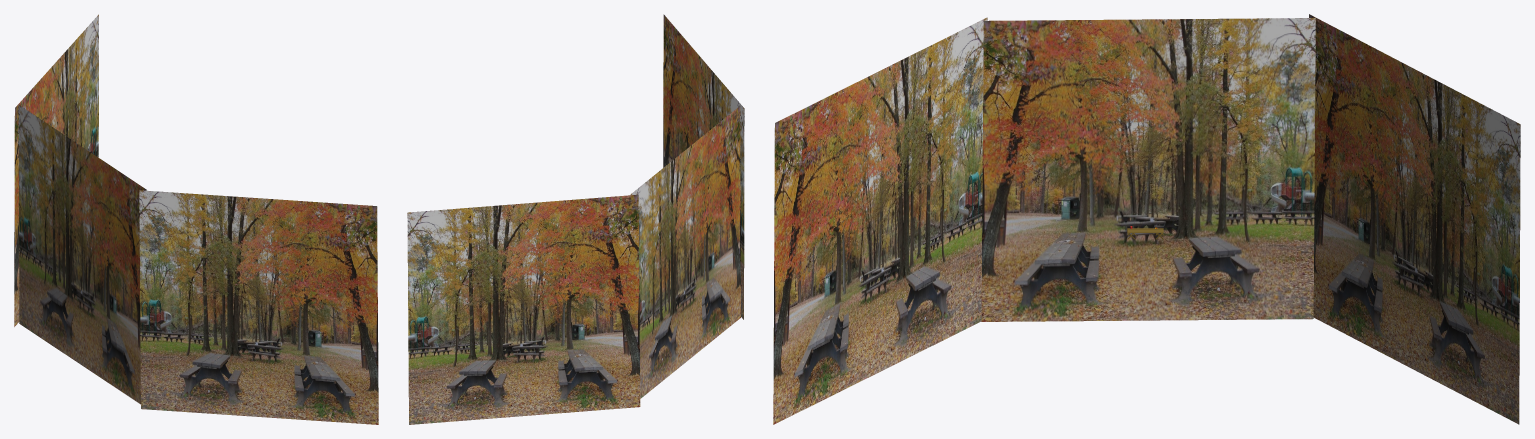
File: antslife2.fbx
3 renders of one model, left to right at view 1: azimuth 30°, elevation 25°; view 2: azimuth 150°, elevation 25°; view 3: azimuth 270°, elevation 25°, orthographic. The views are drawn at different scales.
Parts seen in each view (by area): view 1: Plane.001, Plane, Plane.002; view 2: Plane.002, Plane, Plane.001; view 3: Plane, Plane.001, Plane.002.
Part boxes in pixels (x1=…): Plane.001: x1=139, y1=190, x2=378, y2=424; Plane: x1=18, y1=105, x2=146, y2=404; Plane.002: x1=14, y1=14, x2=98, y2=326; Plane.002: x1=407, y1=194, x2=640, y2=424; Plane: x1=630, y1=106, x2=740, y2=398; Plane.001: x1=663, y1=14, x2=744, y2=319; Plane: x1=981, y1=18, x2=1315, y2=321; Plane.001: x1=773, y1=17, x2=987, y2=424; Plane.002: x1=1309, y1=14, x2=1520, y2=424.
Bounding box in the file's own units: 26979 × 33735 × 74370.
Materials: 5 (1 with a texture image).
